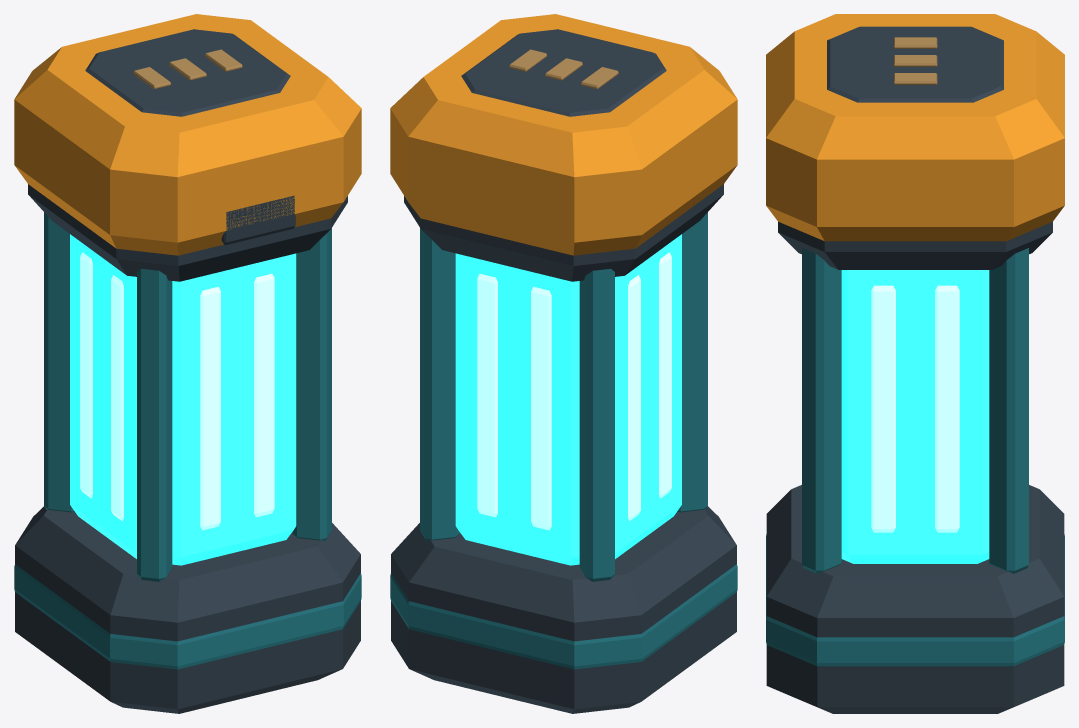
File: PowerCell.fbx
3 views of the same model, side by side, from view 1: azimuth 30°, elevation 25°; view 2: azimuth 150°, elevation 25°; view 3: azimuth 270°, elevation 25° (orthographic). The views are drawn at different scales.
Visible parts, largest first — view 1: PowerCell_Casing, PowerCell_Core; view 2: PowerCell_Casing, PowerCell_Core; view 3: PowerCell_Casing, PowerCell_Core.
Part boxes in pixels (x1=…): PowerCell_Casing: x1=14, y1=14, x2=361, y2=713; PowerCell_Core: x1=70, y1=234, x2=296, y2=565; PowerCell_Casing: x1=390, y1=14, x2=737, y2=713; PowerCell_Core: x1=455, y1=234, x2=681, y2=565; PowerCell_Casing: x1=766, y1=14, x2=1064, y2=713; PowerCell_Core: x1=841, y1=270, x2=989, y2=563.
Size of the model in its own units: 0.45 by 1 by 0.45.
